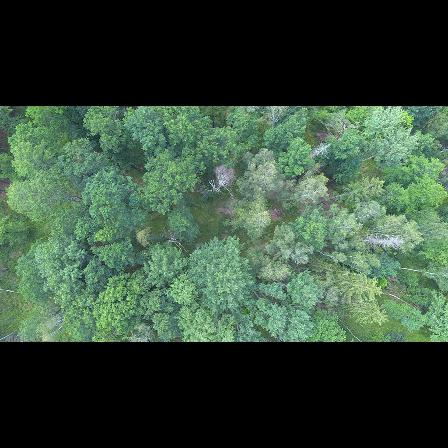Dead: (208, 166, 238, 200), (361, 233, 409, 252), (160, 230, 189, 256), (46, 309, 69, 340), (260, 109, 287, 129), (310, 142, 335, 162)
